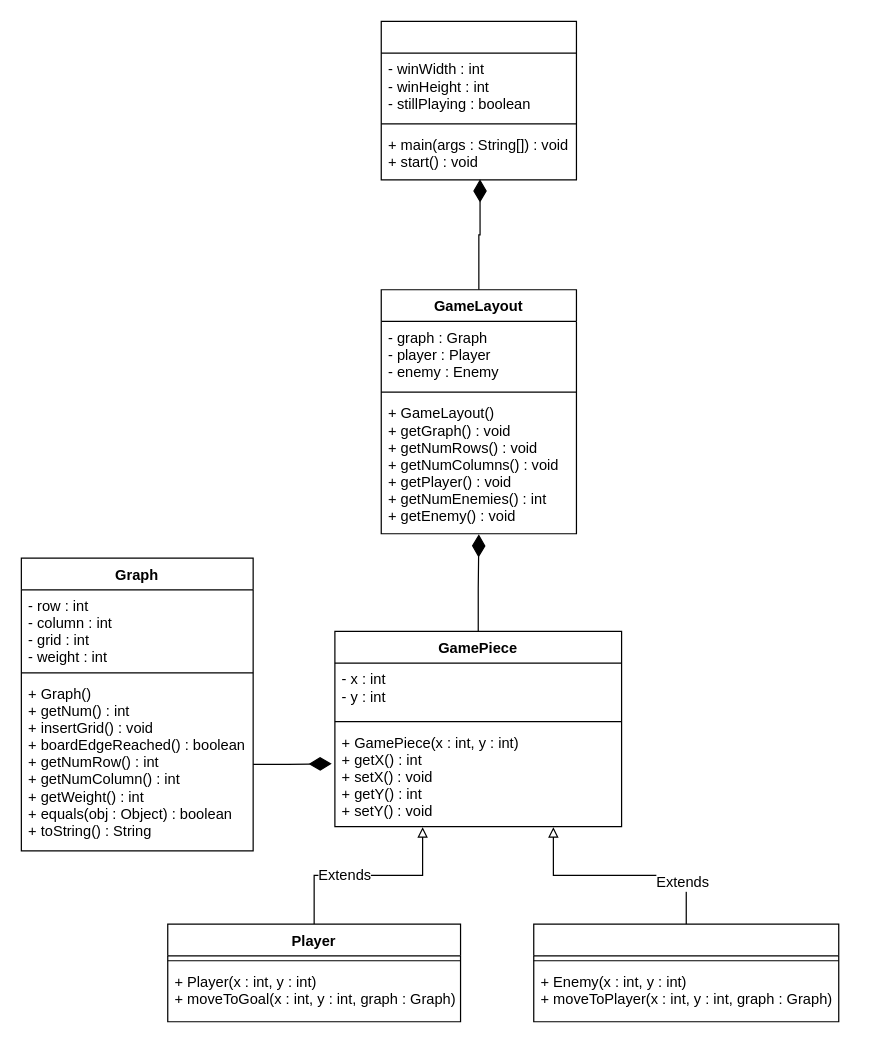
The diagram is 892 pixels wide and 1047 high, and some of its shapes have lost their labels. The box of each missing label's shape, as (x1, y1, x2, y2) in pixels:
Enemies: (533, 923, 839, 1022)
MainWindow: (380, 20, 576, 180)
